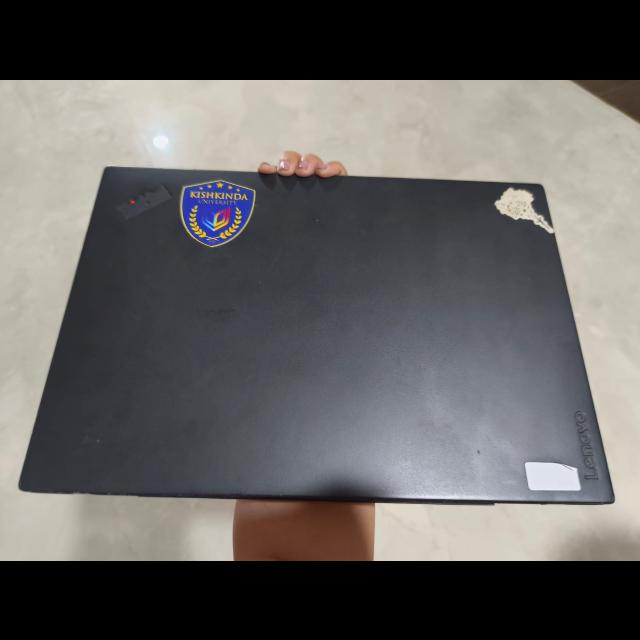laptop: (10, 147, 640, 508)
